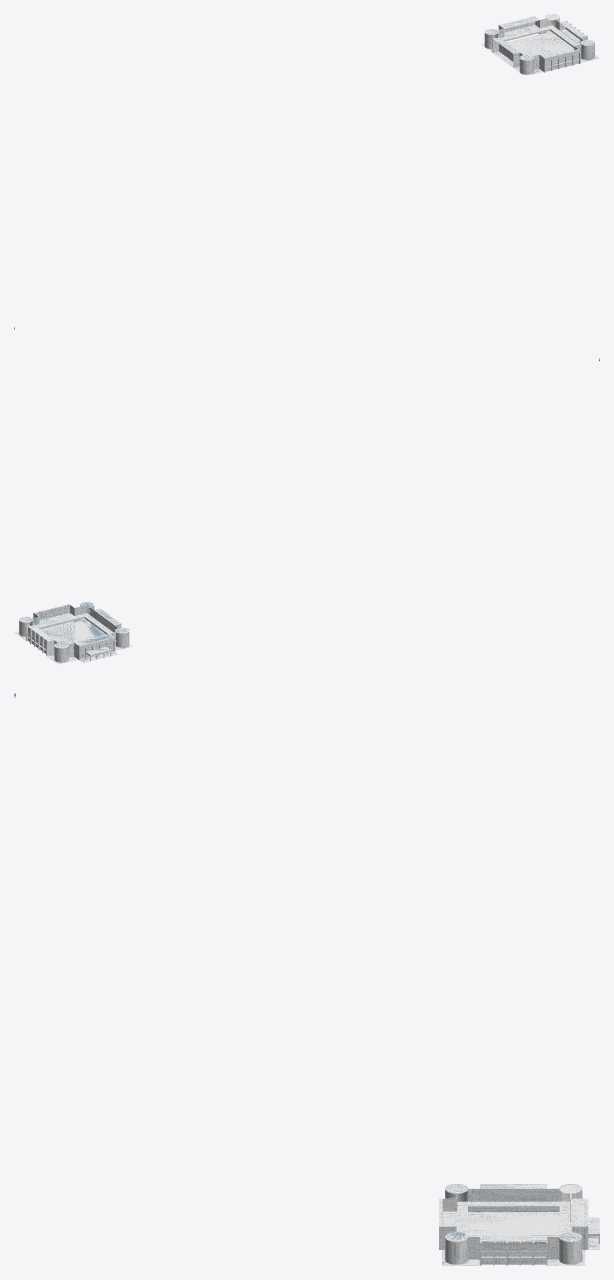
Rendered from Solo_Biblioteca_Reformed (1).fbx.
3 renders of one model, top to bottom at view 1: azimuth 30°, elevation 25°; view 2: azimuth 210°, elevation 25°; view 3: azimuth 270°, elevation 25°, orthographic. The views are drawn at different scales.
Visible parts, largest first — view 1: PROYECTO_Campus_Virtual1; view 2: PROYECTO_Campus_Virtual1; view 3: PROYECTO_Campus_Virtual1, Group1.
Boxes of the visible parts, <box> form: PROYECTO_Campus_Virtual1: <box>481,14,599,74</box>; PROYECTO_Campus_Virtual1: <box>14,602,132,664</box>; PROYECTO_Campus_Virtual1: <box>439,1184,599,1265</box>; Group1: <box>481,1241,545,1264</box>.
Bounding box in the file's own units: 460 × 8.66 × 200.
